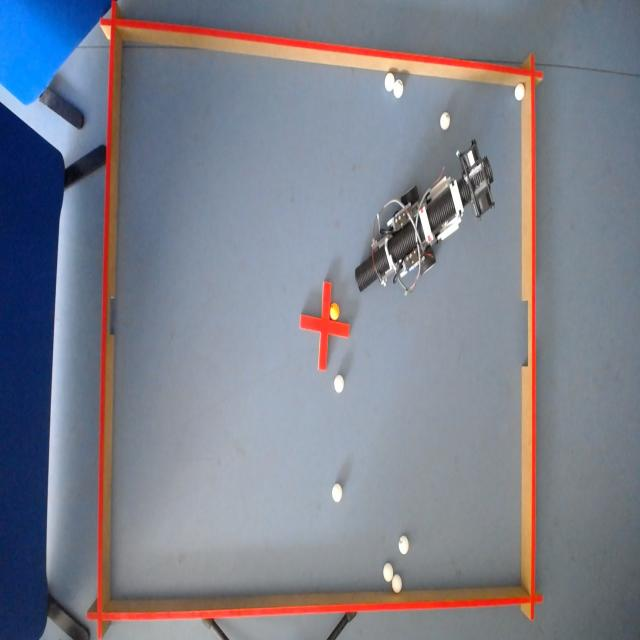orange: (330, 302, 340, 320)
robot: (356, 138, 495, 291)
white: (391, 573, 405, 594), (382, 562, 393, 583), (332, 482, 343, 502), (394, 79, 404, 100), (384, 74, 395, 93), (514, 82, 524, 102), (440, 111, 450, 131), (398, 536, 409, 554), (334, 374, 344, 393)
